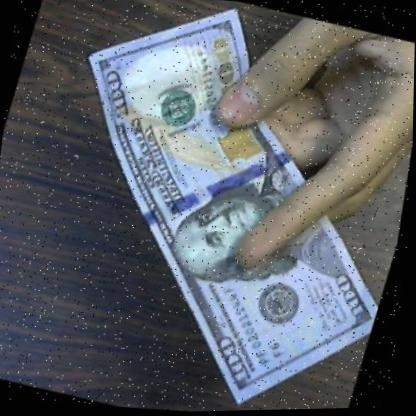one_hundred-front: (2, 0, 416, 416)
